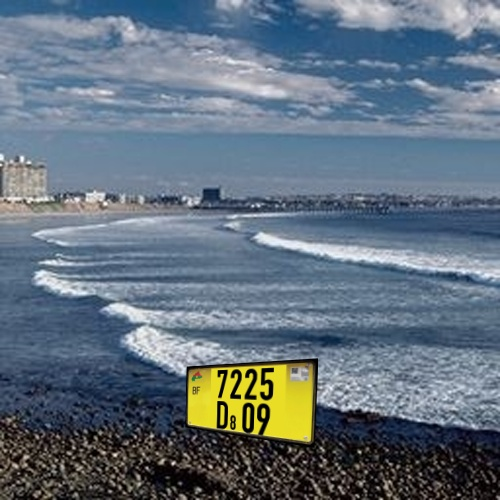plate: (170, 344, 324, 448)
